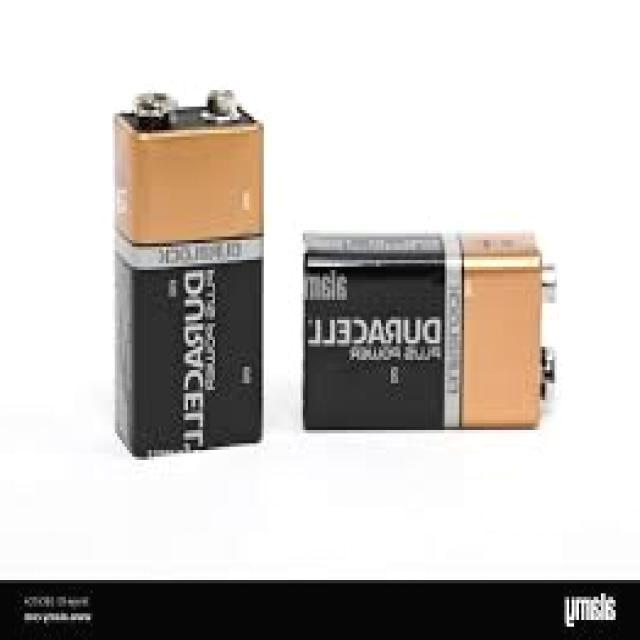battery: (114, 88, 263, 459), (303, 231, 558, 431)
